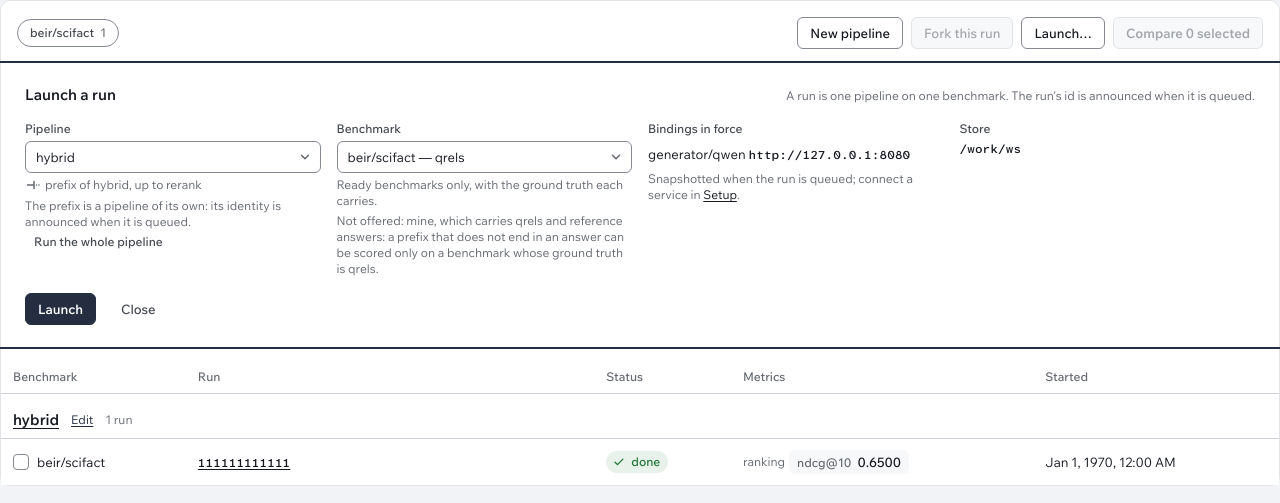
Test: the launch panel up to a node › opens on the pipeline cut at the node, offers only benchmarks the prefix can be scored on, and says why the others are absent
Expected: the text "identity is announced when it is queued" is shown, [25,198,281,229]
Click the button "Launch": (60,309) [25,293,96,325]
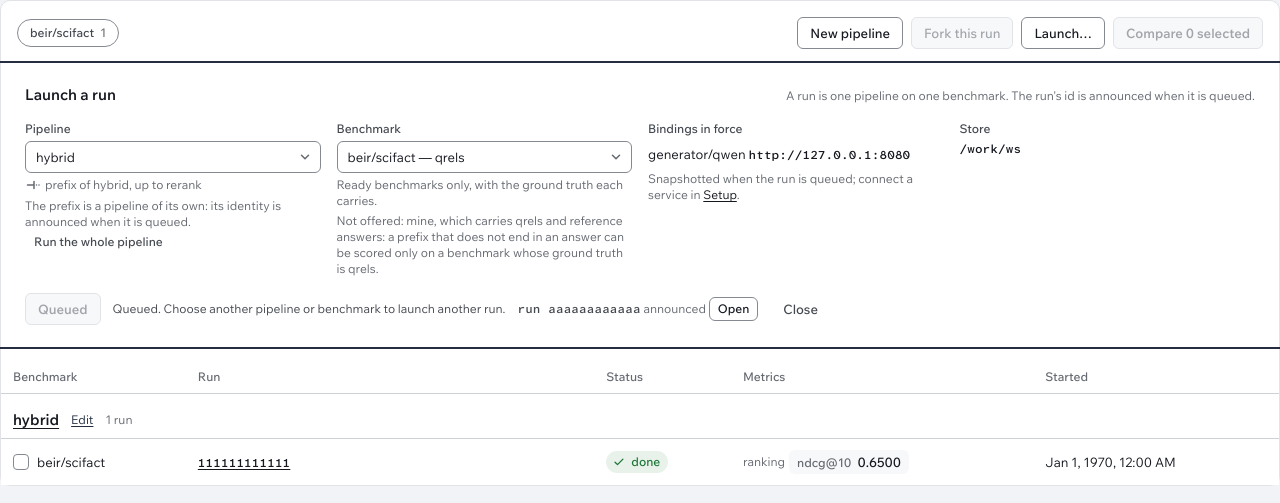
Now the button "Queued" is shown, box [25,293,101,325]
